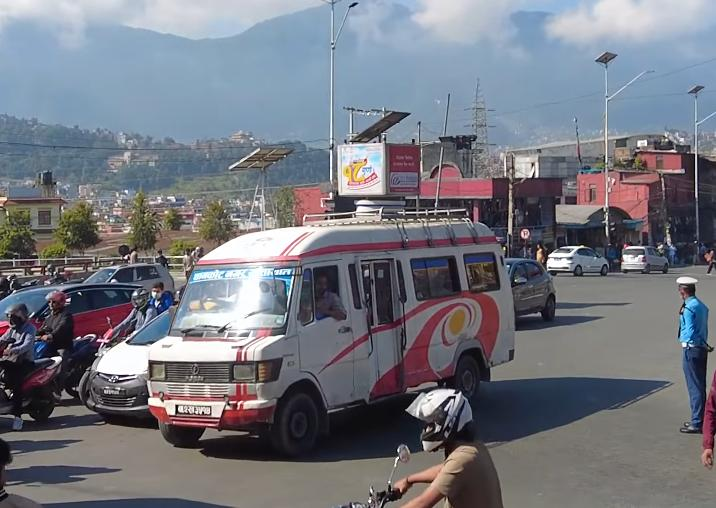car: (495, 254, 562, 328), (0, 350, 64, 424), (545, 243, 610, 278), (621, 243, 672, 277)
micro_bus: (149, 200, 521, 460)
